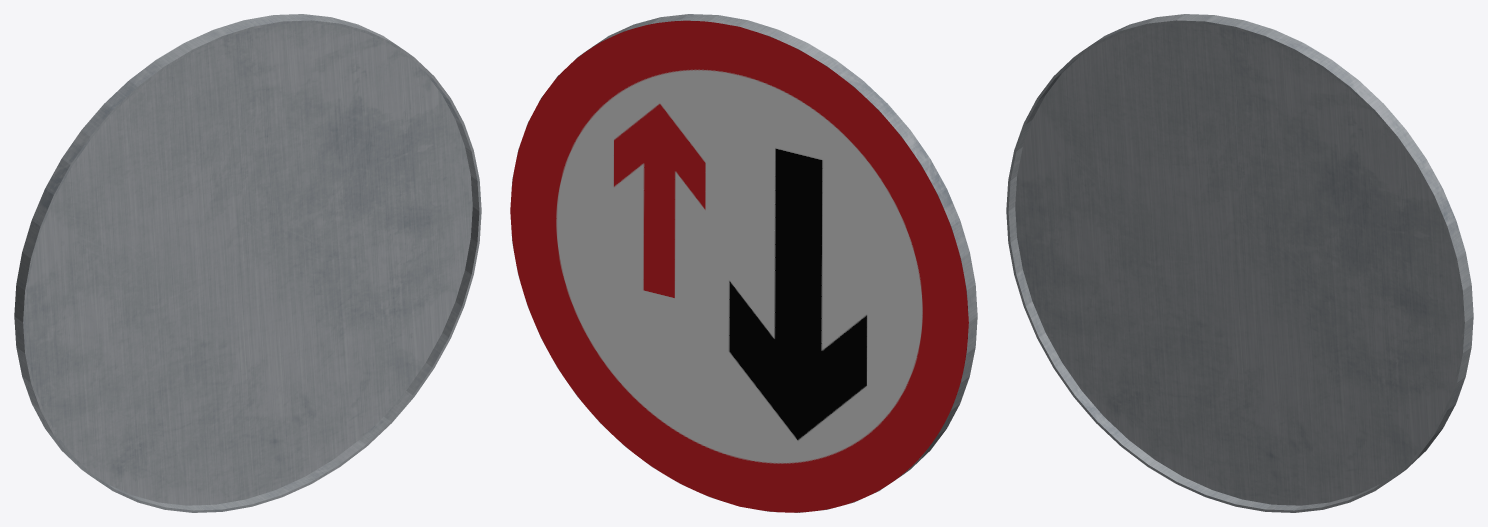
The model's file is Priority_to_vehicles_from_the_opposite_direction.fbx.
3 renders of one model, left to right at view 1: azimuth 30°, elevation 25°; view 2: azimuth 150°, elevation 25°; view 3: azimuth 330°, elevation 25°, orthographic.
Visible parts, largest first — view 1: Priority to vehicles from the opposite direction; view 2: Priority to vehicles from the opposite direction; view 3: Priority to vehicles from the opposite direction.
Boxes of the visible parts, <box> form: Priority to vehicles from the opposite direction: <box>14,14,481,512</box>; Priority to vehicles from the opposite direction: <box>510,14,977,512</box>; Priority to vehicles from the opposite direction: <box>1006,14,1473,512</box>.
Size of the model in its own units: 0.02 by 0.6 by 0.6.
